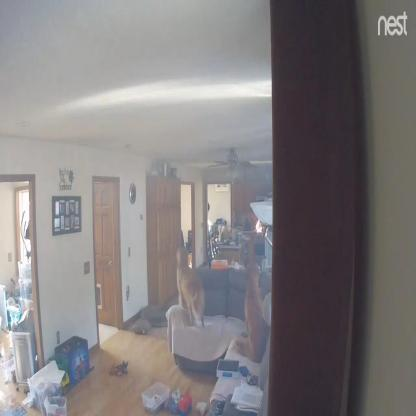fire: (256, 219, 262, 233)
